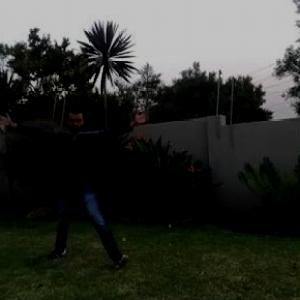takeoff: (1, 99, 139, 259)
